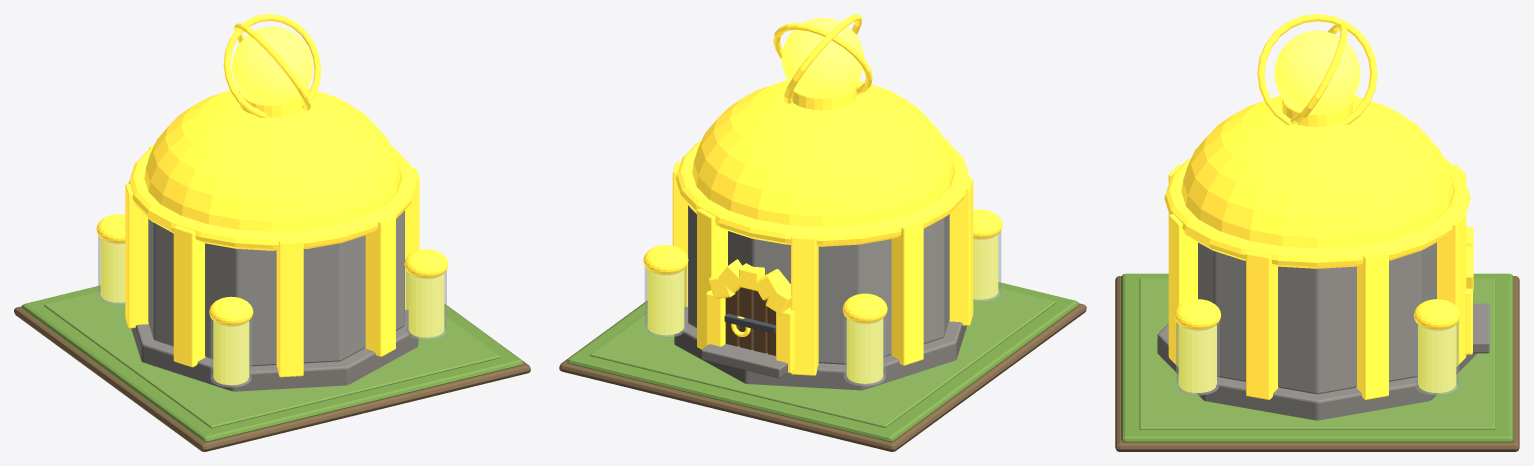
File: laboratory_lv6.glb
3 views of the same model, side by side, from view 1: azimuth 30°, elevation 25°; view 2: azimuth 150°, elevation 25°; view 3: azimuth 270°, elevation 25° (orthographic). The views are drawn at different scales.
Parts seen in each view (by area): view 1: LabDome, LabWallDrum, Base_Inner, Base_Grass, LabDomeRim, LabPlinth, Base_Dirt, ArcaneOrb, LabPillar_4, LabPillar_6, LabPillar_5, LabPillar_3 (+13 smaller); view 2: LabDome, Base_Inner, LabWallDrum, Base_Grass, LabDomeRim, Base_Dirt, LabPlinth, LabPillar_3, ArcaneOrb, LabPillar_2, LabPillar_4, SideVatGlass_1 (+20 smaller); view 3: LabDome, LabWallDrum, Base_Inner, Base_Grass, LabDomeRim, Base_Dirt, LabPlinth, ArcaneOrb, LabPillar_0, LabPillar_7, SideVatGlass_0, SideVatGlass_3 (+11 smaller).
Boxes of the visible parts, left/top/right/bottom form: LabDome: left=144, top=88, right=400, bottom=231; LabWallDrum: left=148, top=210, right=404, bottom=366; Base_Inner: left=44, top=291, right=500, bottom=428; Base_Grass: left=22, top=285, right=523, bottom=442; LabDomeRim: left=128, top=146, right=416, bottom=250; LabPlinth: left=131, top=309, right=418, bottom=391; Base_Dirt: left=14, top=304, right=530, bottom=451; ArcaneOrb: left=231, top=26, right=313, bottom=103; LabPillar_4: left=173, top=225, right=205, bottom=367; LabPillar_6: left=365, top=213, right=395, bottom=356; LabPillar_5: left=276, top=239, right=303, bottom=377; LabPillar_3: left=125, top=184, right=148, bottom=328; LabDome: left=692, top=80, right=953, bottom=226; Base_Inner: left=590, top=287, right=1055, bottom=427; LabWallDrum: left=688, top=205, right=949, bottom=364; Base_Grass: left=567, top=282, right=1078, bottom=441; LabDomeRim: left=676, top=140, right=969, bottom=246; Base_Dirt: left=559, top=302, right=1086, bottom=451; LabPlinth: left=674, top=306, right=966, bottom=390; LabPillar_3: left=891, top=220, right=923, bottom=365; ArcaneOrb: left=781, top=17, right=864, bottom=96; LabPillar_2: left=791, top=235, right=818, bottom=375; LabPillar_4: left=949, top=178, right=973, bottom=325; SideVatGlass_1: left=844, top=315, right=886, bottom=386; LabDome: left=1181, top=96, right=1453, bottom=248; LabWallDrum: left=1198, top=242, right=1436, bottom=394; Base_Inner: left=1139, top=278, right=1495, bottom=429; Base_Grass: left=1121, top=273, right=1513, bottom=442; LabDomeRim: left=1164, top=158, right=1470, bottom=268; Base_Dirt: left=1115, top=276, right=1519, bottom=451; LabPlinth: left=1157, top=323, right=1476, bottom=420; ArcaneOrb: left=1274, top=30, right=1360, bottom=112; LabPillar_0: left=1356, top=251, right=1388, bottom=399; LabPillar_7: left=1246, top=251, right=1278, bottom=399; SideVatGlass_0: left=1415, top=321, right=1458, bottom=395; SideVatGlass_3: left=1176, top=321, right=1219, bottom=395.
Bounding box in the file's own units: 2.76 × 2.58 × 2.76.
